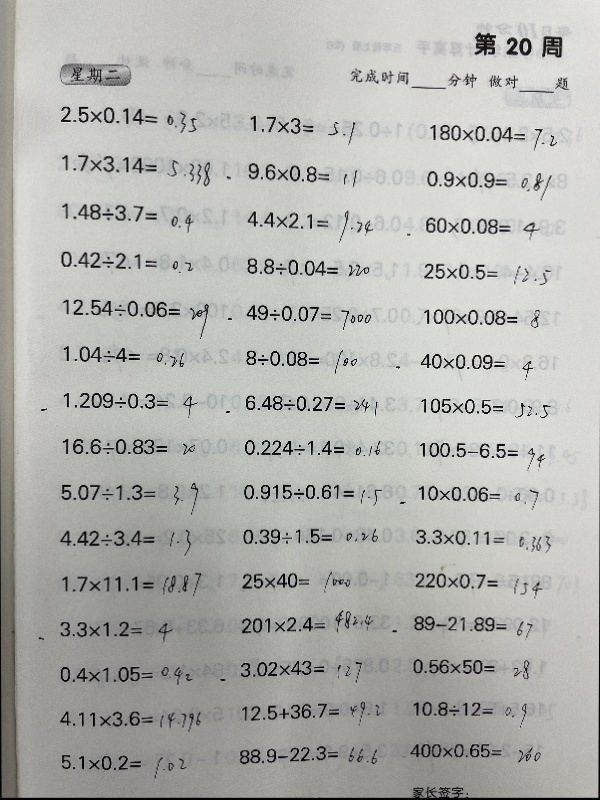equation: (56, 294, 209, 337), (57, 479, 202, 518), (57, 199, 198, 238), (241, 206, 375, 247), (56, 568, 203, 603), (57, 151, 214, 182), (237, 696, 383, 729), (421, 166, 554, 201), (58, 388, 202, 420), (55, 246, 194, 279), (419, 258, 556, 291), (223, 298, 375, 327), (411, 568, 542, 601), (56, 525, 195, 556), (55, 705, 203, 734), (56, 102, 199, 132), (415, 348, 536, 383), (398, 739, 544, 768), (56, 750, 188, 782), (408, 654, 535, 686), (414, 435, 545, 466), (240, 344, 362, 377), (236, 606, 374, 635), (235, 741, 381, 768), (238, 477, 384, 504), (424, 121, 559, 150), (408, 696, 529, 727), (413, 481, 540, 510), (54, 660, 195, 686), (244, 112, 358, 144), (235, 655, 365, 683), (62, 343, 187, 372), (237, 522, 381, 547), (239, 434, 383, 459), (410, 525, 553, 550), (59, 433, 200, 458), (54, 614, 175, 643), (236, 564, 356, 593), (408, 610, 535, 637), (240, 390, 380, 414), (420, 304, 543, 331), (241, 254, 373, 279), (416, 394, 552, 418), (420, 213, 541, 238), (242, 160, 360, 185)
